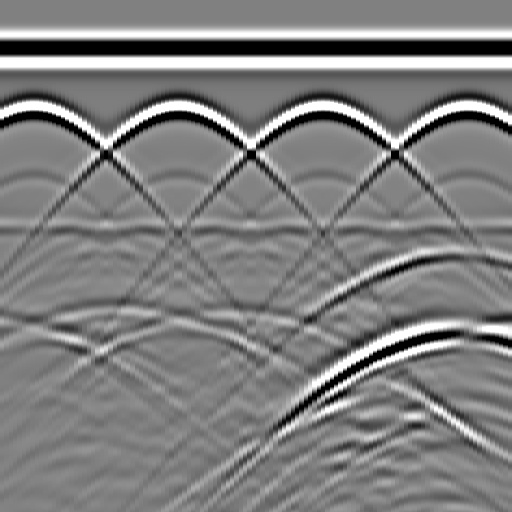grout_surface: (1, 213, 512, 243)
rebar: (12, 89, 52, 129), (156, 89, 196, 129), (300, 89, 340, 129), (444, 89, 484, 129)
rock_surface: (1, 308, 511, 414)
water_void: (423, 228, 483, 268)
